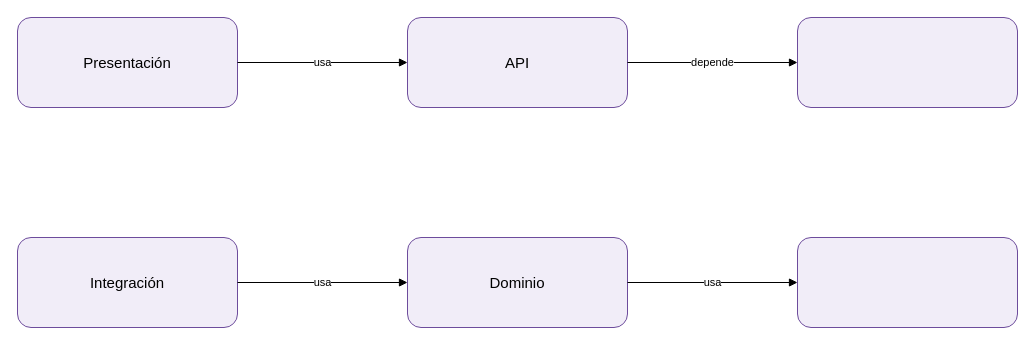
Image size: 1035x345. Some labels were removed from this diagram. Here are the shapes that lost their labels. From the top down, the box of each, then its label:
(796, 16, 1018, 108): Persistencia
(796, 236, 1018, 328): Infraestructura
